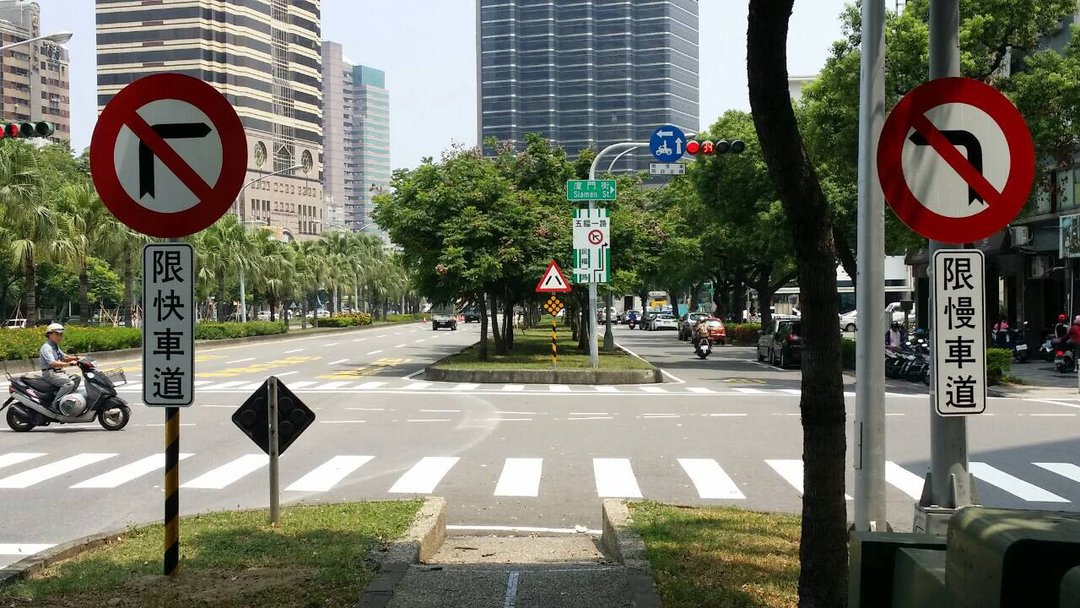No_left_turn: (877, 77, 1036, 243)
No_right_turn: (89, 73, 248, 237)
Traffic_light_red: (686, 139, 745, 155)
